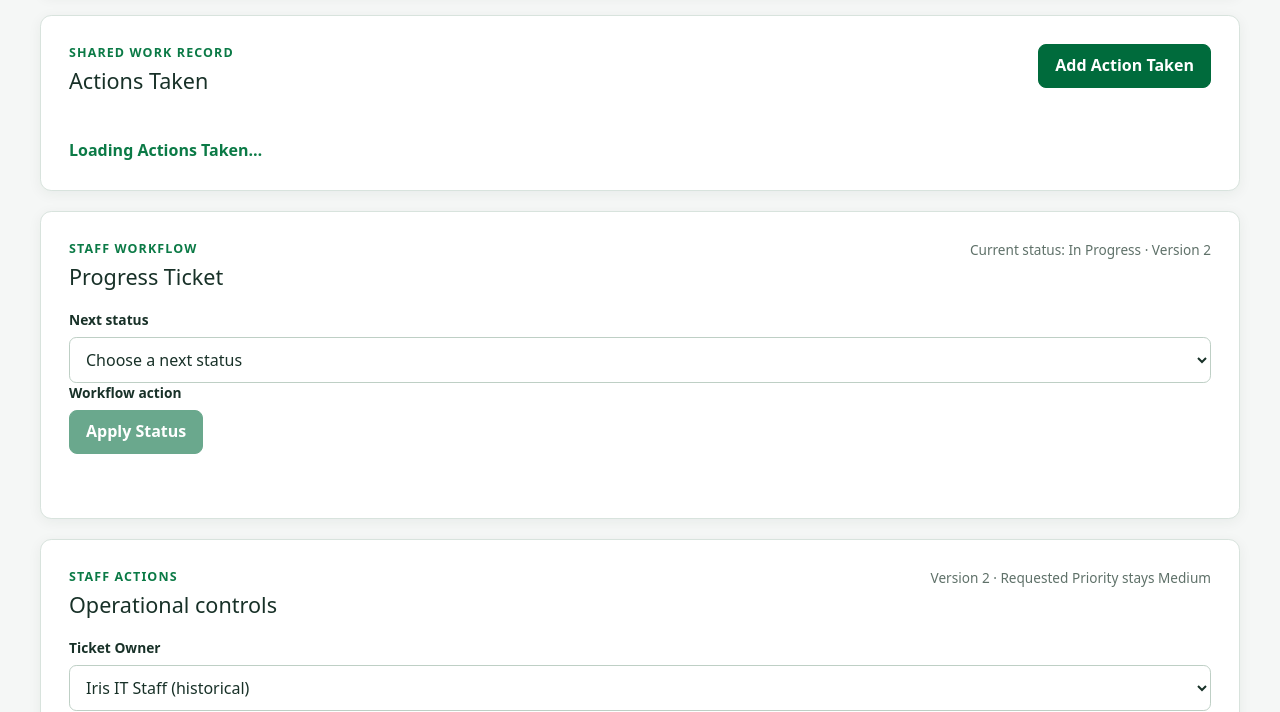
Test: Lab 4 Ticket workflow controls › refreshes the Ticket summary and status history after a status change
(page scrolled)
Select "Waiting for Requester" in the dropdown labelled "Next status" at (640, 360), box x1=69 y1=337 x2=1211 y2=383
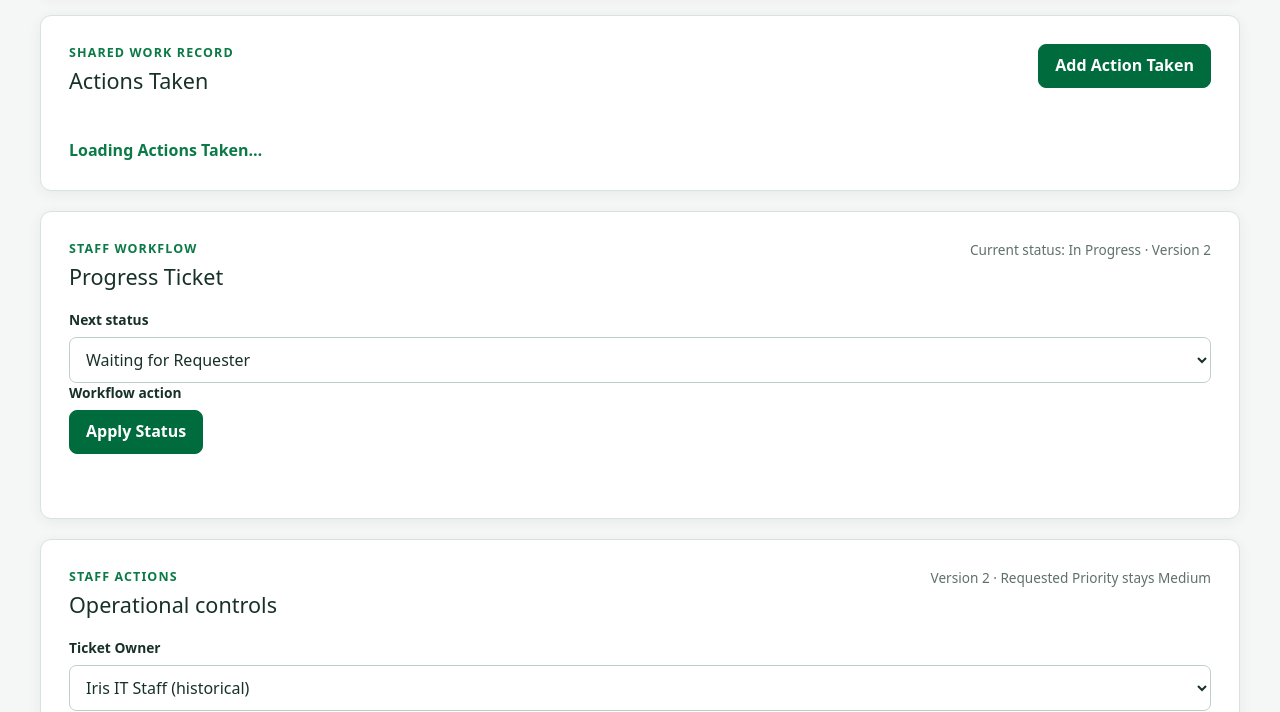
Click the button "Apply Status".
click(136, 432)  # box x1=69 y1=410 x2=203 y2=454
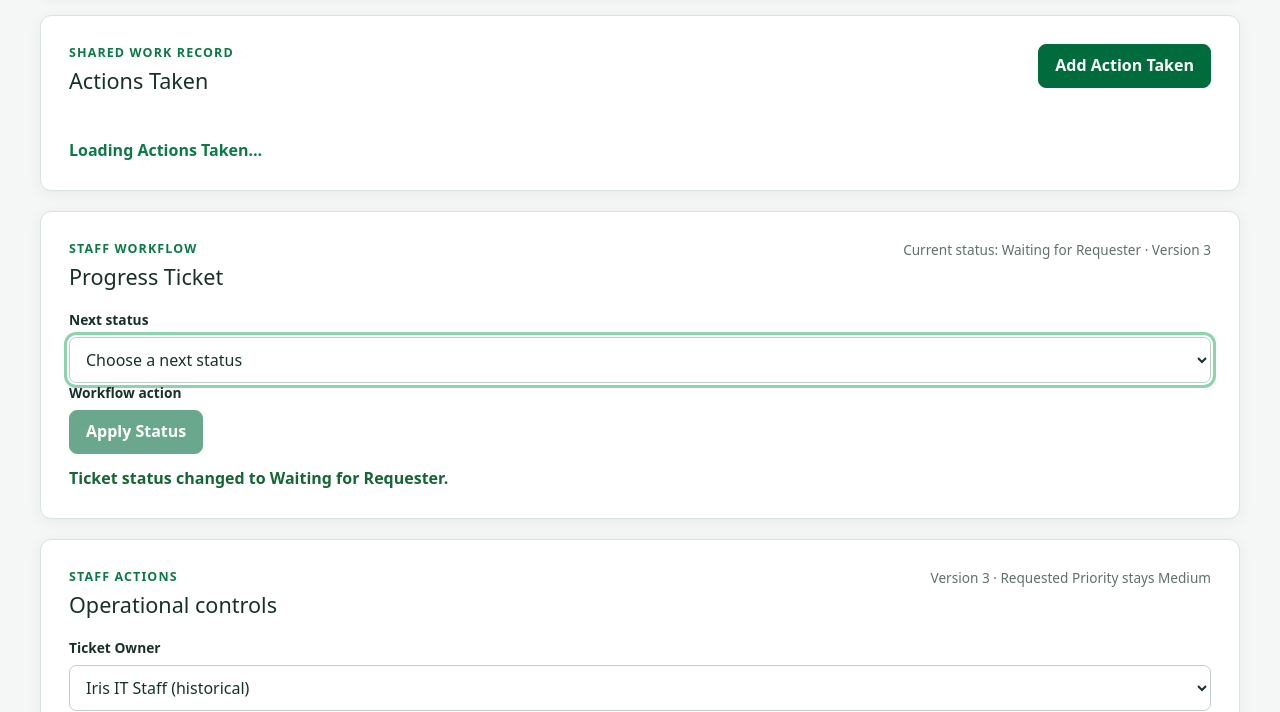
Expected: the text "Ticket status changed to Waiting for Requester." is shown, x1=69 y1=467 x2=448 y2=489
Expected: the text "Current status: Waiting for Requester · Version 3" is shown, x1=903 y1=240 x2=1211 y2=260
